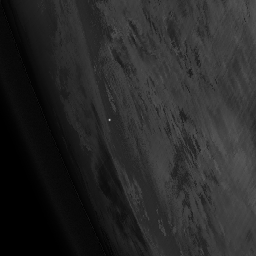Target: (107, 117, 112, 122)
